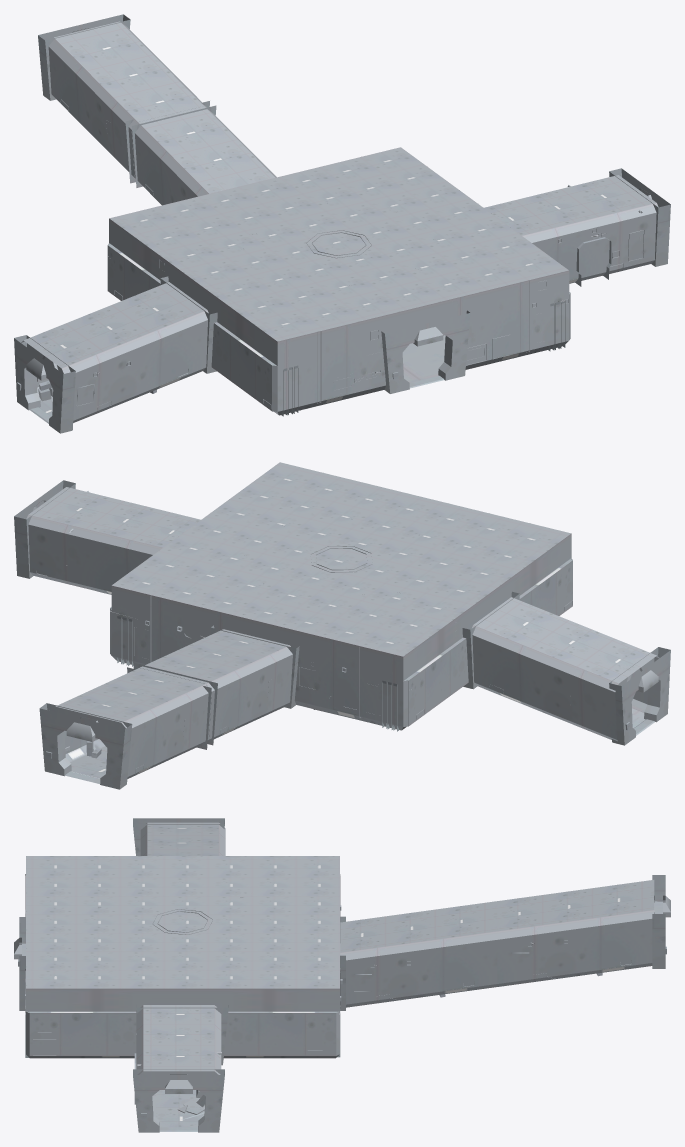
File: Combined_Mesh_root_scene__11_1f1e19ed__ZombiesII_laboratory_02_d_7436f9f5_c1f257.obj
3 views of the same model, one above another, from view 1: azimuth 30°, elevation 25°; view 2: azimuth 150°, elevation 25°; view 3: azimuth 270°, elevation 25° (orthographic). The views are drawn at different scales.
Bounding box in the file's own units: 84.66 × 16.88 × 83.67.
Materials: 291 (291 with a texture image).
